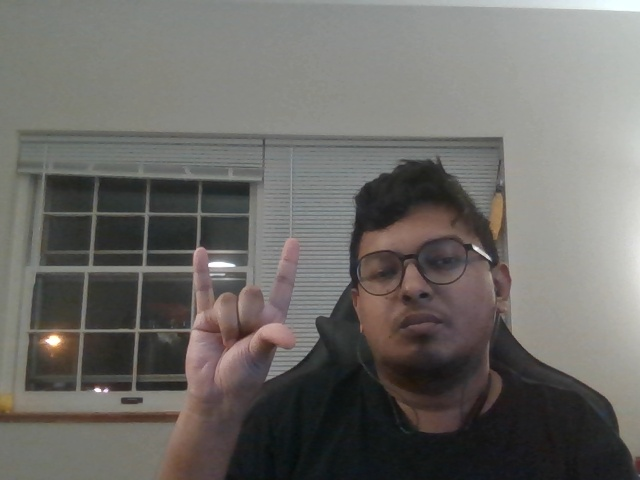ilikeyou: (171, 225, 322, 406)
